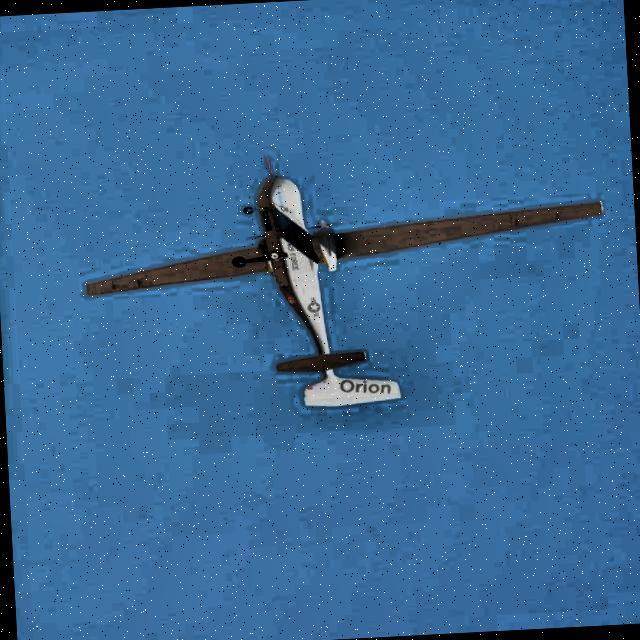iha: (67, 151, 620, 446)
